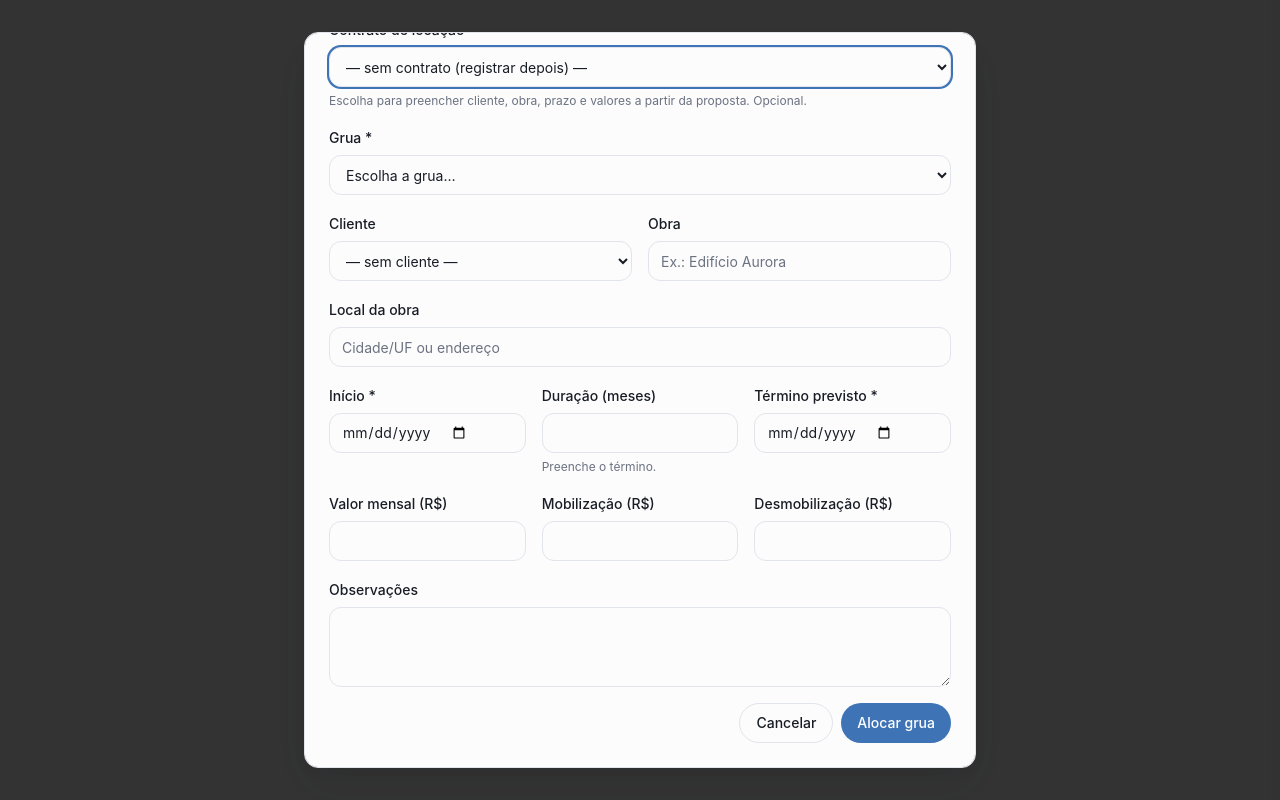
Test: alocar grua a uma obra › campos obrigatórios aparecem como erro ao tentar salvar
The width and height of the screenshot is (1280, 800).
(page scrolled)
Click the button "Alocar grua" at (896, 723), box [841, 703, 951, 743]
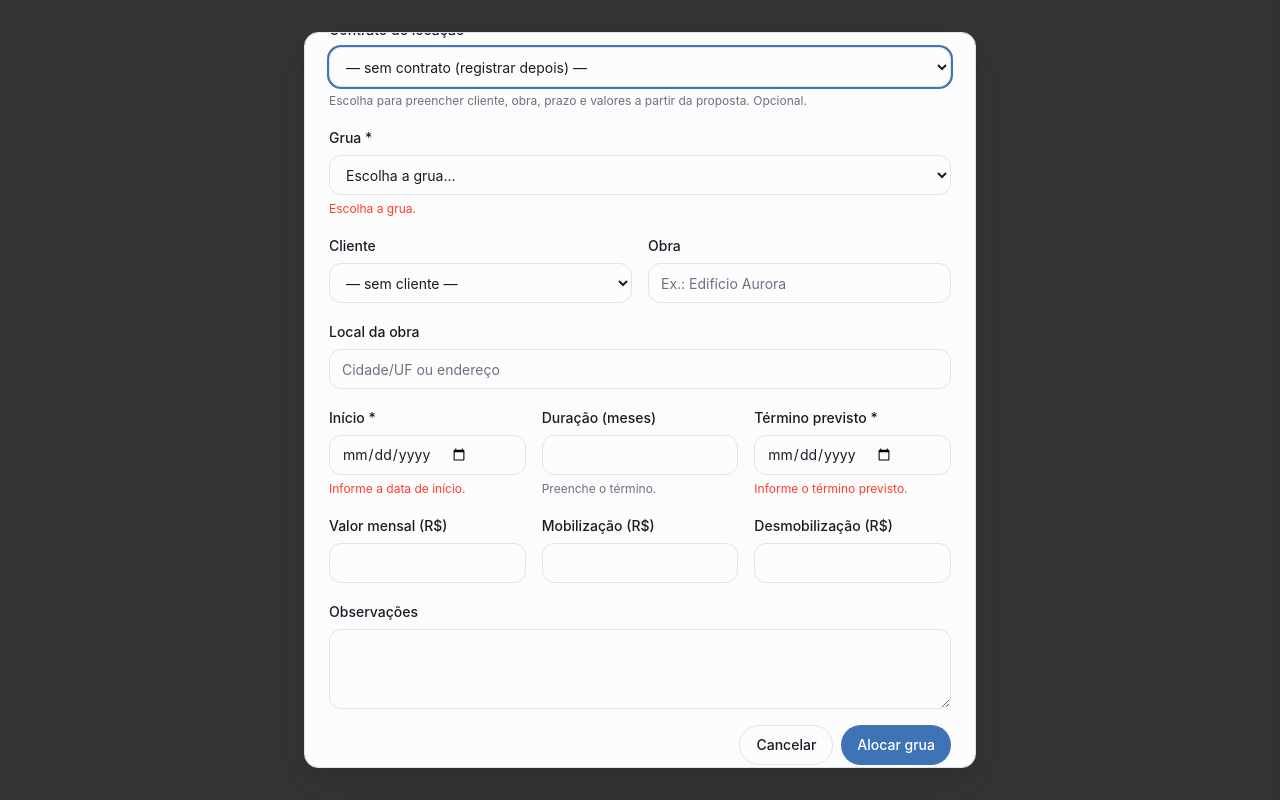
Now the text "Escolha a grua." is shown, box [329, 201, 416, 216]
Now the text "Informe a data de início." is shown, box [329, 481, 466, 496]
Now the text "Informe o término previsto." is shown, box [754, 481, 908, 496]
